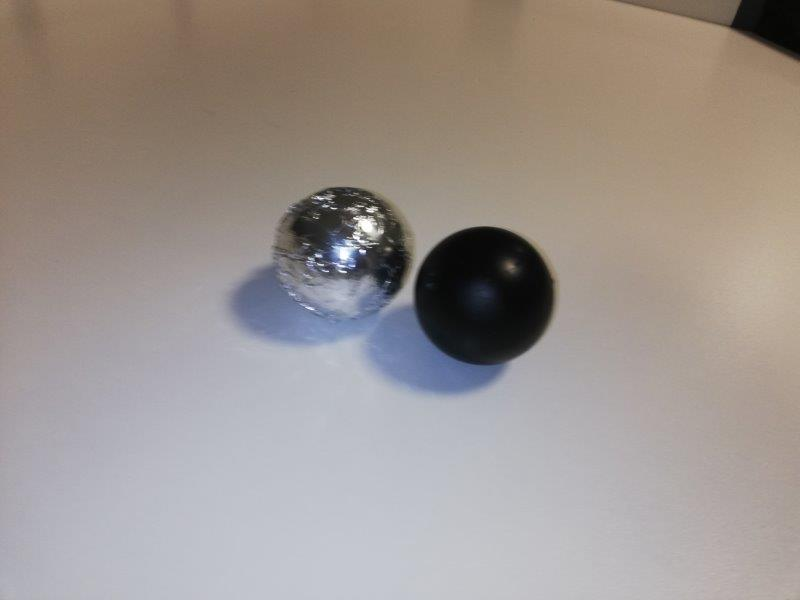bianca: (274, 185, 411, 318)
nera: (416, 226, 556, 365)
